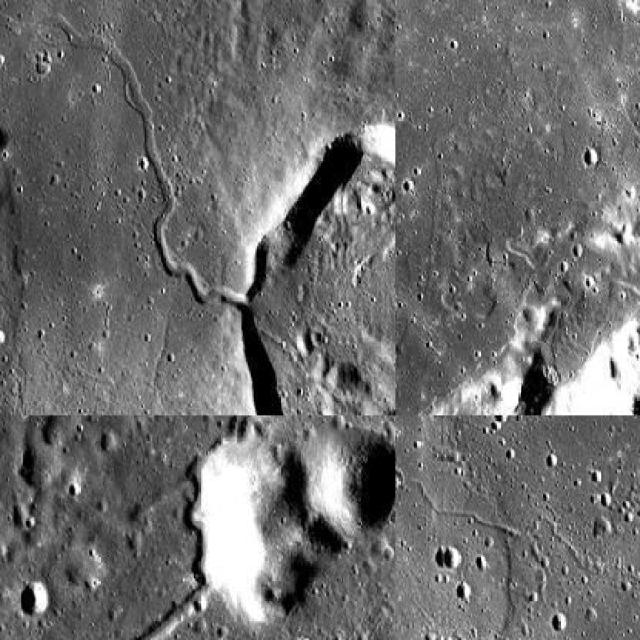rille: (0, 14, 246, 312), (396, 415, 550, 611), (524, 512, 638, 578), (180, 459, 208, 586)
